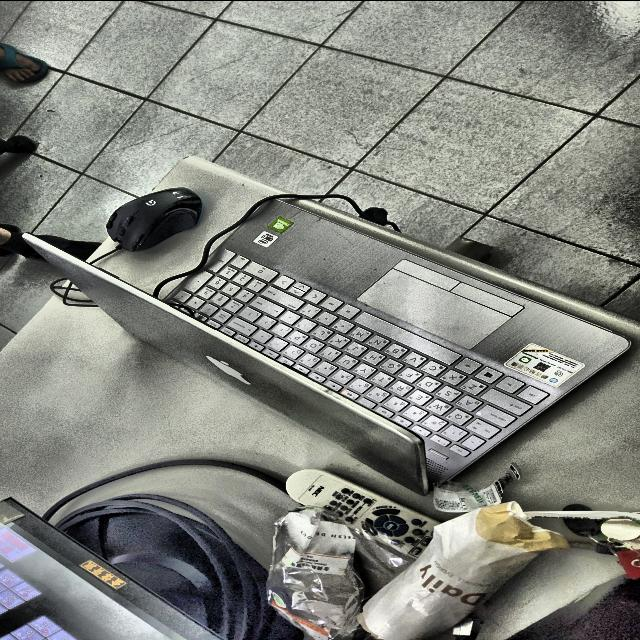Laptop: (29, 199, 630, 493)
MOUSE: (106, 187, 202, 250)
Screen: (0, 497, 223, 640)
